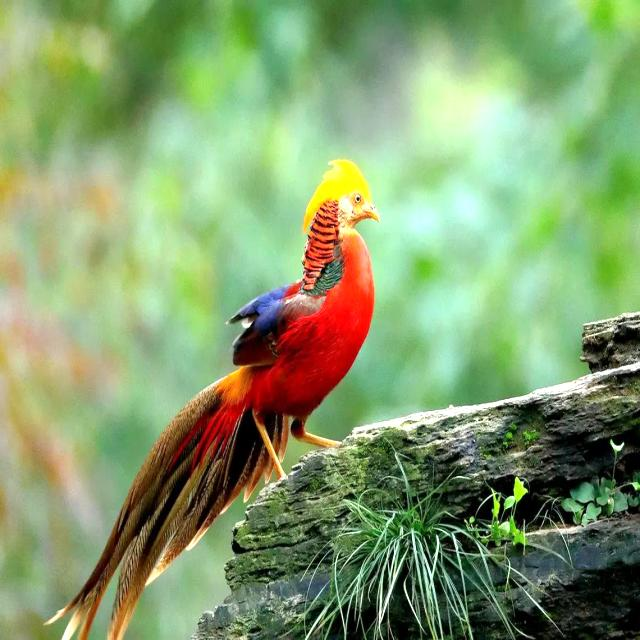Chrysolophus pictus feather: (45, 383, 267, 640)
